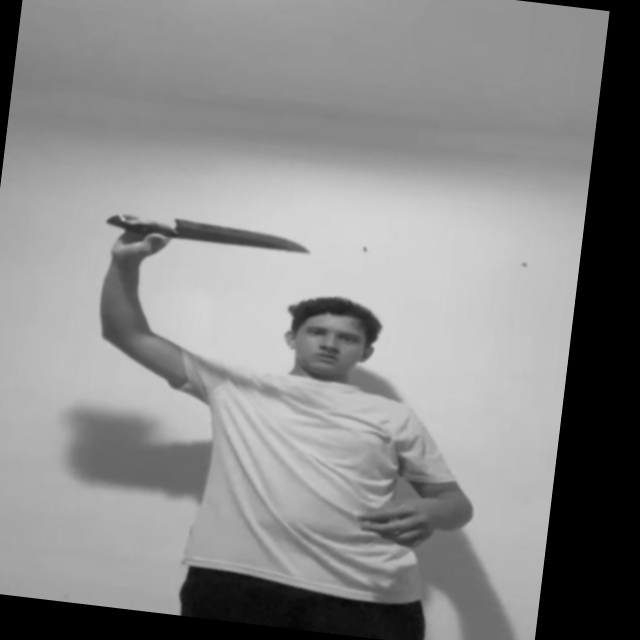Sharp-Object: (172, 213, 310, 255)
